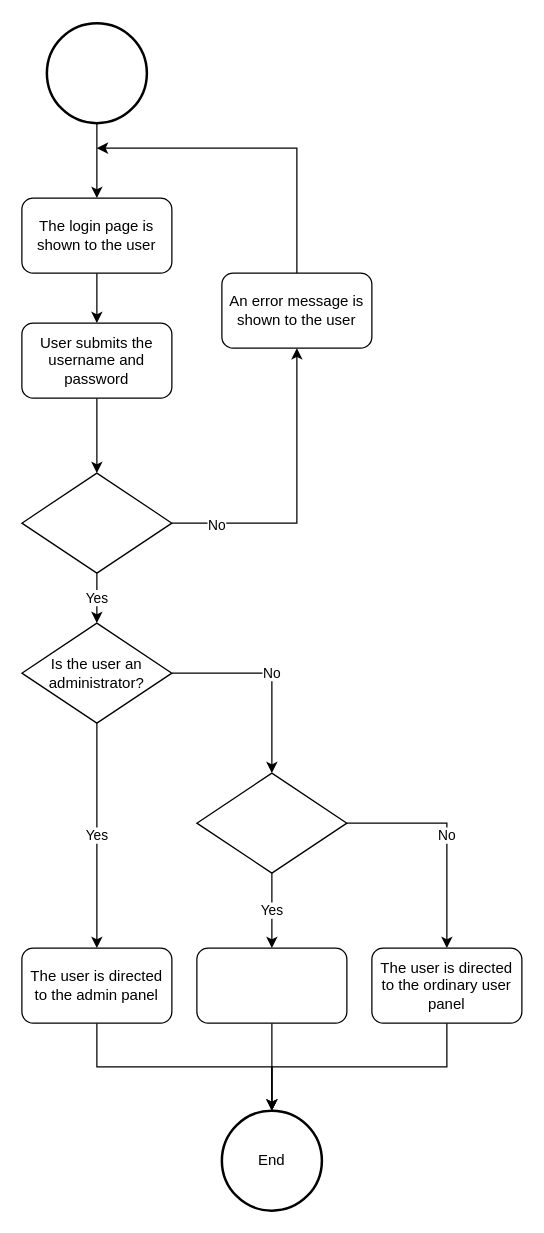
Image size: 544x1233. Some labels were removed from this diagram. Here are the shapes that lost their labels. From the top down, the box of each, then its label:
(45, 21, 148, 124): Start
(21, 472, 172, 573): Is the login info valid?
(196, 772, 347, 873): Is the user a support staff?
(196, 947, 347, 1023): The user is directed to the support panel
